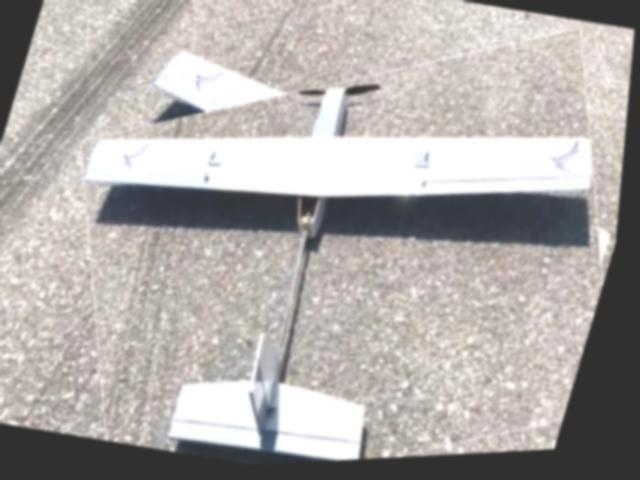insansiz-hava-araci: (27, 0, 640, 478)
